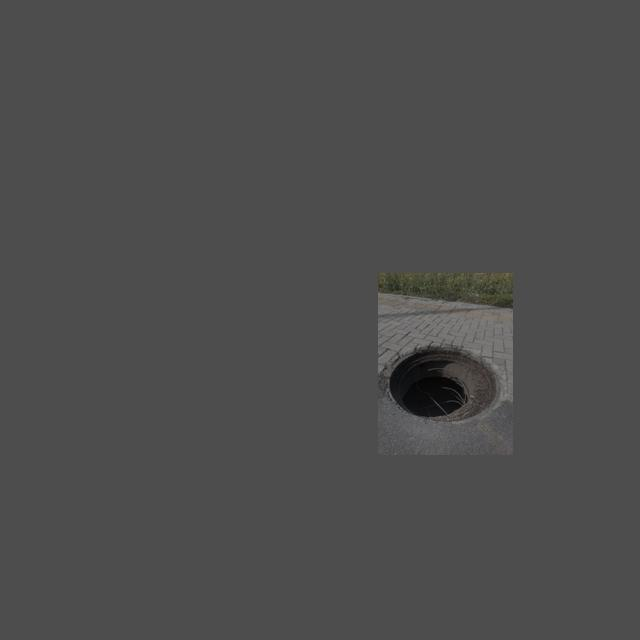lose: (388, 347, 500, 422)
